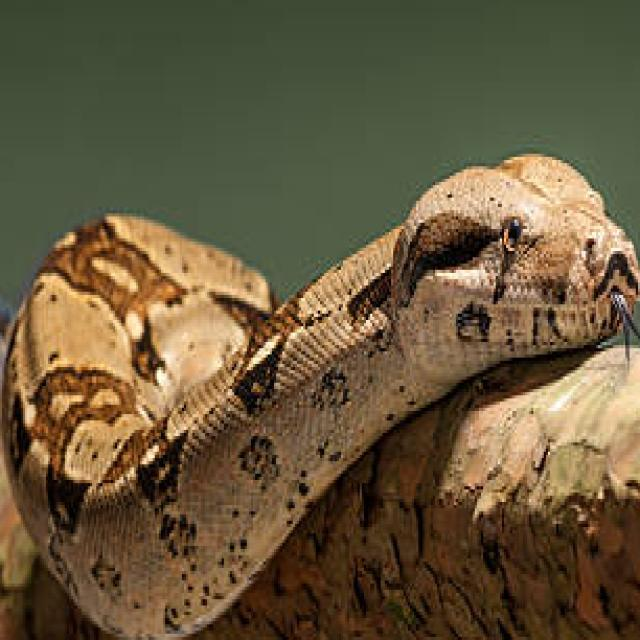Snake: (0, 144, 640, 640)
